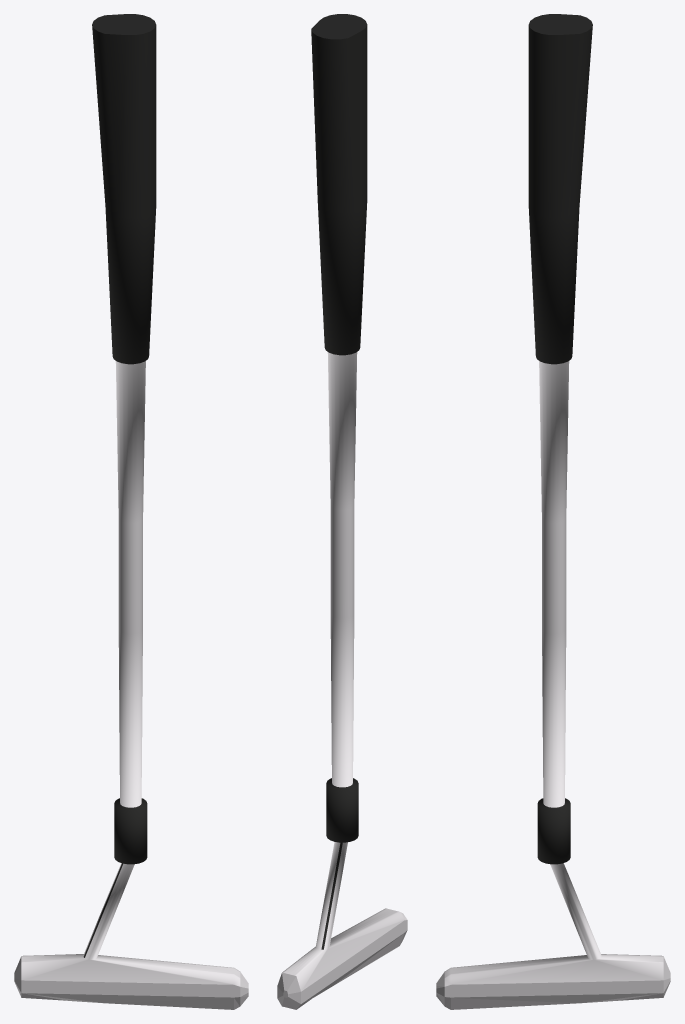
Rendered from Putter.FBX.
3 renders of one model, left to right at view 1: azimuth 90°, elevation 25°; view 2: azimuth 150°, elevation 25°; view 3: azimuth 270°, elevation 25°, orthographic. The views are drawn at different scales.
Parts seen in each view (by area): view 1: Cylinder001; view 2: Cylinder001; view 3: Cylinder001.
Part boxes in pixels (bbox=[...]): Cylinder001: bbox=[14, 14, 248, 1009]; Cylinder001: bbox=[277, 14, 407, 1009]; Cylinder001: bbox=[436, 14, 670, 1009].
Size of the model in its own units: 6.59 by 143 by 30.91.
Materials: 1 (1 with a texture image).
